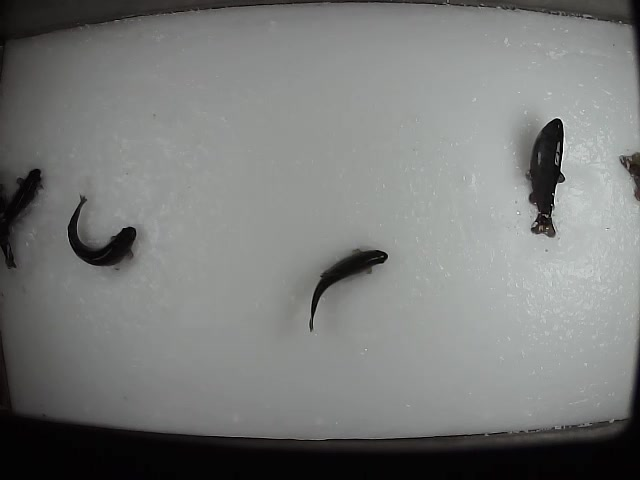Fish: (308, 249, 388, 330), (67, 194, 136, 266), (526, 117, 565, 238)
